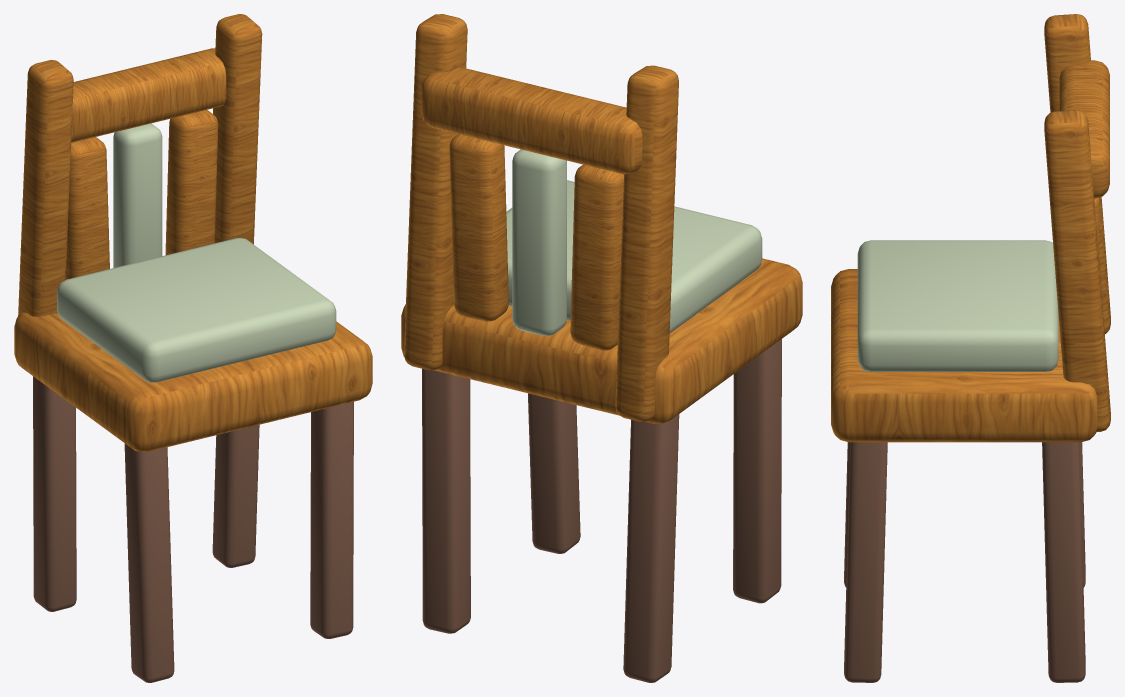
The model's file is dining-chair.glb.
The picture shows the model from 3 angles, left to right: view 1: azimuth 30°, elevation 25°; view 2: azimuth 150°, elevation 25°; view 3: azimuth 270°, elevation 25°; orthographic projection. The views are drawn at different scales.
Parts seen in each view (by area): view 1: dining-chair; view 2: dining-chair; view 3: dining-chair.
Boxes of the visible parts, <box> form: dining-chair: <box>14,14,372,682</box>; dining-chair: <box>401,14,802,682</box>; dining-chair: <box>831,14,1110,682</box>.
Size of the model in its own units: 0.432 by 0.9211 by 0.4131.
3 materials, 1 textured.
